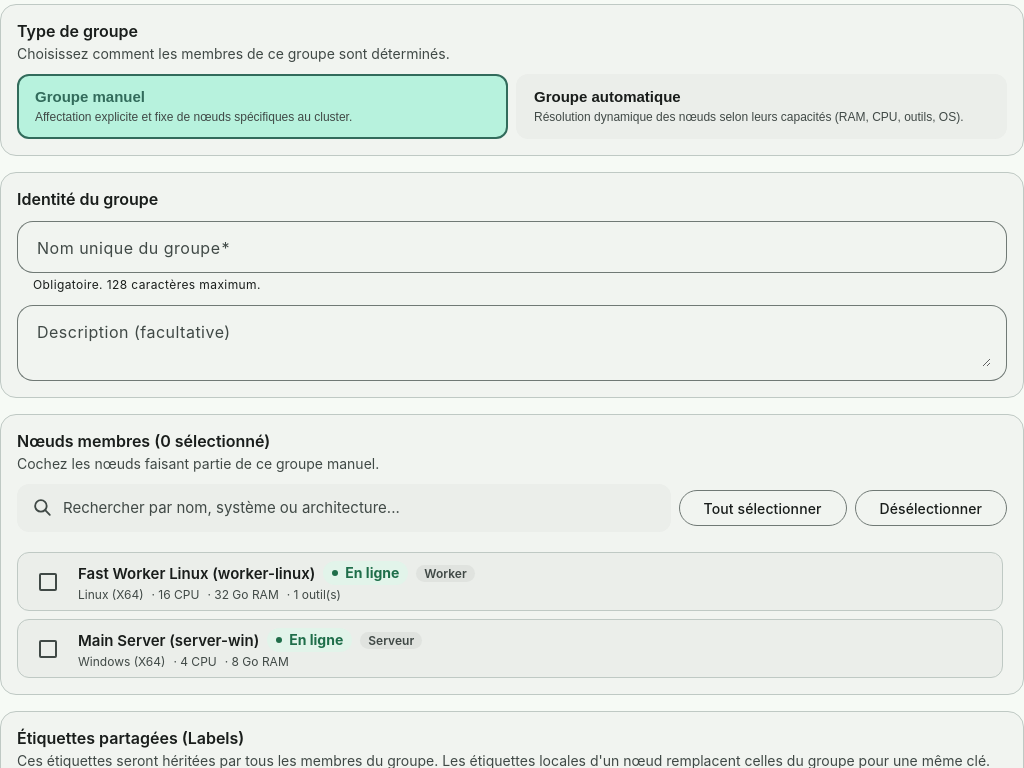
NodeGroupEditorComponent › evaluates live matching in automatic mode
# Switch to automatic mode
Click the button with class "mode-card" that starts with "Groupe automatique" at (607, 96), box [516, 74, 1007, 139]
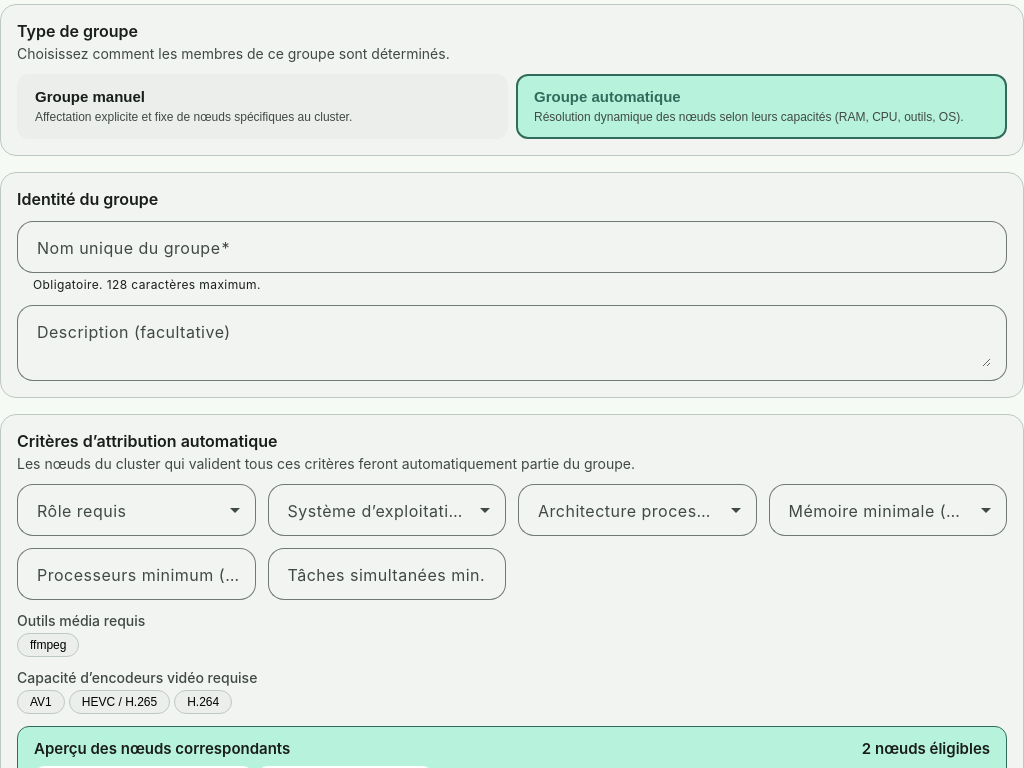
Result: the text "Critères d’attribution automatique" is shown at [17, 431, 278, 451]
Result: the text "Aperçu des nœuds correspondants" is shown at [34, 739, 290, 758]
Result: the button with class "tool-chip" showing "ffmpeg" is shown
Click the button with class "tool-chip" showing "ffmpeg" at (48, 645), box [17, 633, 80, 657]
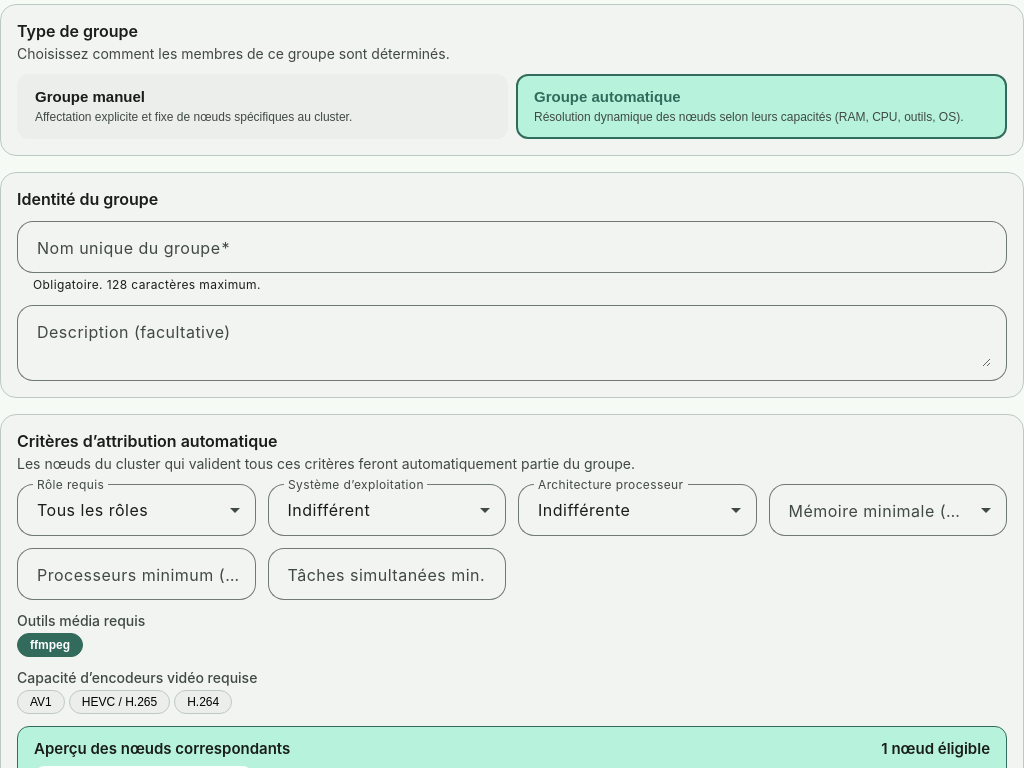
Result: the text "1 nœud éligible" is shown at [881, 739, 990, 758]
